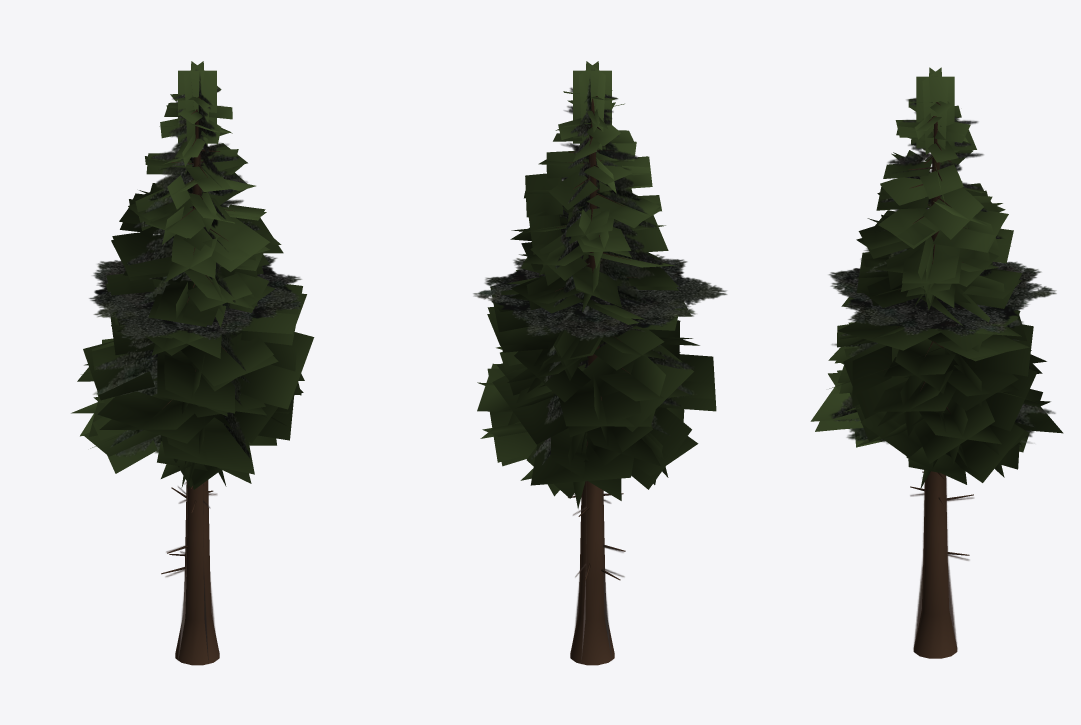
Rendered from veg.tree.sugi.mo.glb.
The picture shows the model from 3 angles, left to right: view 1: azimuth 30°, elevation 25°; view 2: azimuth 150°, elevation 25°; view 3: azimuth 270°, elevation 25°; orthographic projection. The views are drawn at different scales.
Parts seen in each view (by area): view 1: LOD0, IMP; view 2: LOD0, IMP; view 3: LOD0, IMP.
Part boxes in pixels (left/top/right/bottom): LOD0: left=71, top=61, right=314, bottom=665; IMP: left=89, top=69, right=301, bottom=662; LOD0: left=477, top=61, right=716, bottom=665; IMP: left=473, top=69, right=727, bottom=662; LOD0: left=810, top=67, right=1063, bottom=658; IMP: left=828, top=98, right=1056, bottom=649.
Size of what is drawn, in the model's own units: 6.17 by 15.2 by 6.17.
3 materials, 1 textured.
